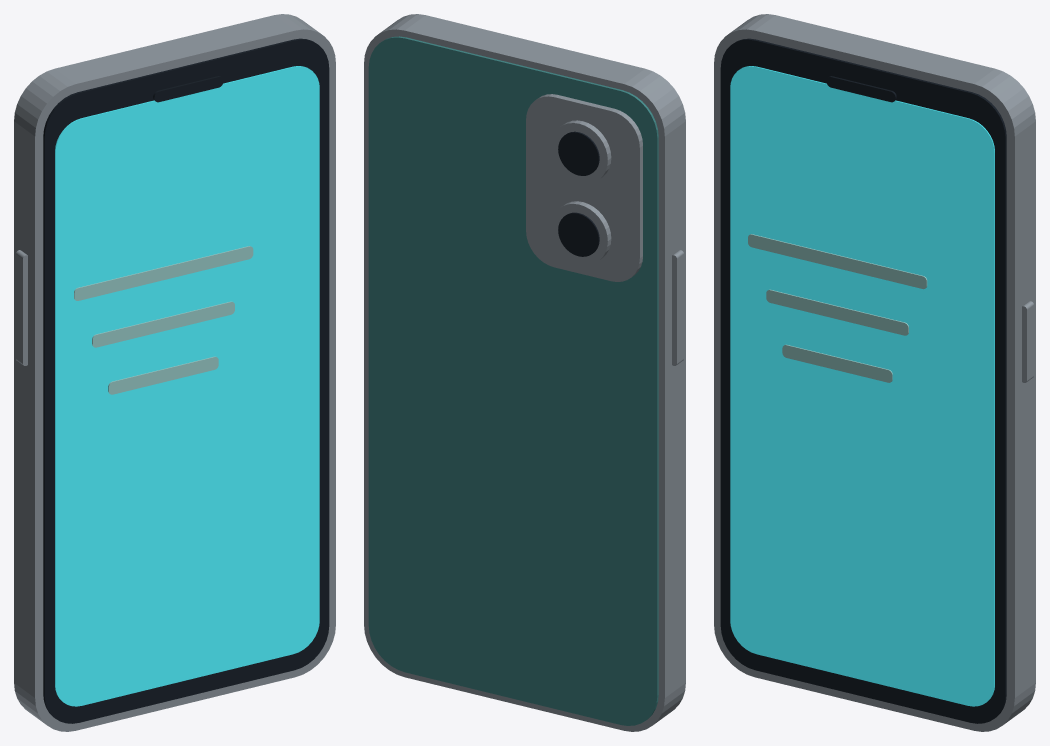
Rendered from demo-phone.glb.
The picture shows the model from 3 angles, left to right: view 1: azimuth 30°, elevation 25°; view 2: azimuth 150°, elevation 25°; view 3: azimuth 330°, elevation 25°; orthographic projection.
Visible parts, largest first — view 1: Display, Frame, Glass front, Display accent (×3), Volume key, Earpiece; view 2: Back panel, Frame, Camera island, Lens ring (×2), Lens glass (×2), Volume key; view 3: Display, Frame, Glass front, Display accent (×3), Power key, Earpiece.
Boxes of the visible parts, x1,y1,x2,y2 form: Display: (55,66,319,706); Frame: (14,14,335,731); Glass front: (43,38,329,723); Display accent (×3): (74,246,253,394); Volume key: (16,250,27,365); Earpiece: (153,76,223,102); Back panel: (368,36,658,725); Frame: (364,14,685,731); Camera island: (526,94,642,281); Lens ring (×2): (551,120,611,264); Lens glass (×2): (558,131,599,256); Volume key: (672,250,683,365); Display: (730,66,994,706); Frame: (714,14,1035,731); Glass front: (720,38,1006,723); Display accent (×3): (748,234,927,382); Power key: (1022,301,1033,382); Earpiece: (826,76,896,102).
Size of the model in its own units: 0.0765 by 0.152 by 0.0144.
